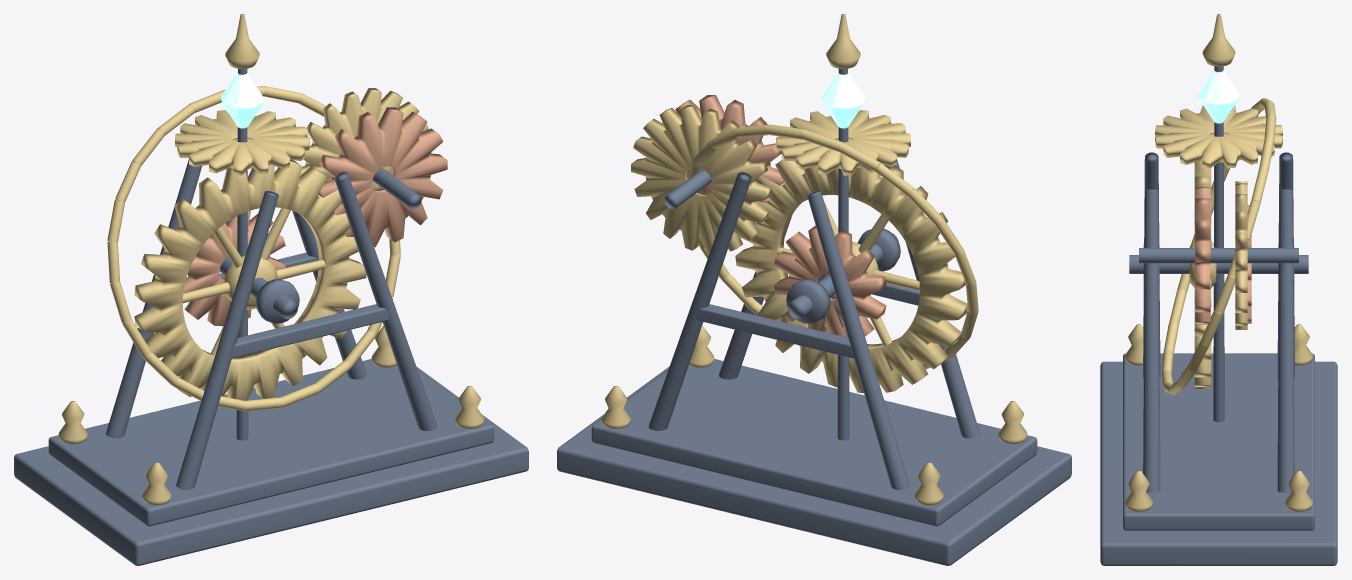
The model's file is webtoon-ornate-clocktower-gear-core-v13.glb.
3 renders of one model, left to right at view 1: azimuth 30°, elevation 25°; view 2: azimuth 150°, elevation 25°; view 3: azimuth 270°, elevation 25°, orthographic. The views are drawn at different scales.
Visible parts, largest first — view 1: ClockworkSteelFrame, ClockworkBrassGears, ClockworkCopperPinions, ClockworkChronoCrystal; view 2: ClockworkSteelFrame, ClockworkBrassGears, ClockworkCopperPinions, ClockworkChronoCrystal; view 3: ClockworkSteelFrame, ClockworkBrassGears, ClockworkCopperPinions, ClockworkChronoCrystal.
Part boxes in pixels (<box>): ClockworkSteelFrame: <box>14,68,528,565</box>; ClockworkBrassGears: <box>58,14,484,505</box>; ClockworkCopperPinions: <box>183,107,447,326</box>; ClockworkChronoCrystal: <box>220,72,264,128</box>; ClockworkSteelFrame: <box>557,68,1071,565</box>; ClockworkBrassGears: <box>601,14,1027,505</box>; ClockworkCopperPinions: <box>662,95,886,337</box>; ClockworkChronoCrystal: <box>821,72,865,128</box>; ClockworkSteelFrame: <box>1100,66,1337,565</box>; ClockworkBrassGears: <box>1125,14,1312,511</box>; ClockworkCopperPinions: <box>1195,187,1251,324</box>; ClockworkChronoCrystal: <box>1197,70,1240,123</box>.
Bounding box in the file's own units: 1.36 × 1.54 × 0.74.
